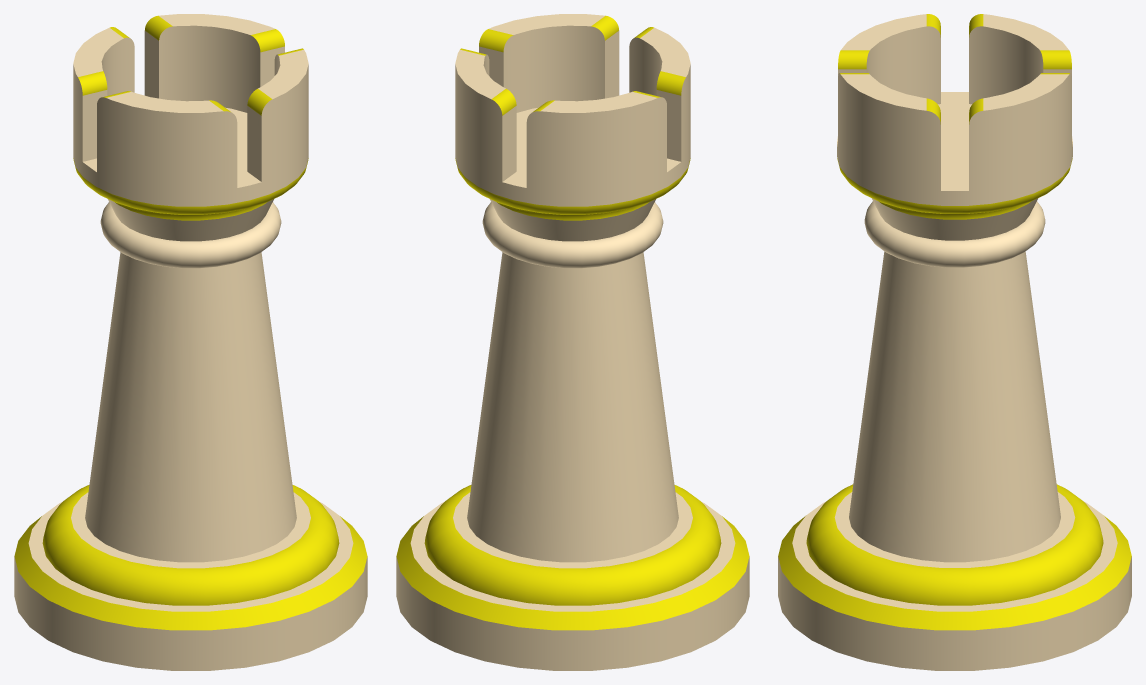
Rendered from Premium_W_Rook.gltf.
3 views of the same model, side by side, from view 1: azimuth 30°, elevation 25°; view 2: azimuth 150°, elevation 25°; view 3: azimuth 270°, elevation 25° (orthographic).
Visible parts, largest first — view 1: Rook; view 2: Rook; view 3: Rook.
Part boxes in pixels (box(x1,y1,x2,y2)): Rook: box(14, 14, 367, 670); Rook: box(396, 14, 749, 670); Rook: box(778, 14, 1131, 670).
Bounding box in the file's own units: 0.0284 × 0.0476 × 0.0286.
